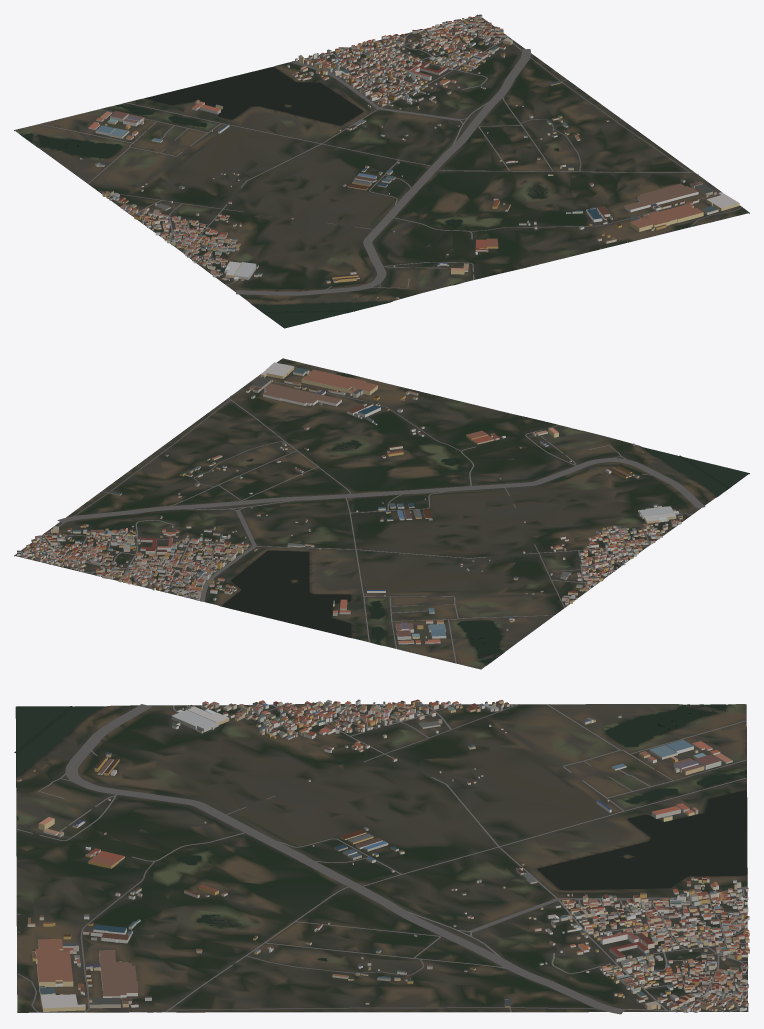
3 renders of one model, top to bottom at view 1: azimuth 30°, elevation 25°; view 2: azimuth 150°, elevation 25°; view 3: azimuth 270°, elevation 25°, orthographic. The views are drawn at different scales.
Parts seen in each view (by area): view 1: ground, buildings, water, roads; view 2: ground, buildings, water, roads; view 3: ground, buildings, water, roads.
Part boxes in pixels (x1=…): ground: x1=14, y1=17, x2=749, y2=328; buildings: x1=79, y1=14, x2=739, y2=298; water: x1=20, y1=67, x2=559, y2=327; roads: x1=39, y1=17, x2=741, y2=295; ground: x1=14, y1=358, x2=749, y2=669; buildings: x1=17, y1=362, x2=682, y2=644; water: x1=222, y1=429, x2=748, y2=665; roads: x1=20, y1=364, x2=705, y2=663; ground: x1=15, y1=704, x2=748, y2=1012; buildings: x1=17, y1=699, x2=749, y2=1012; water: x1=14, y1=704, x2=746, y2=961; roads: x1=16, y1=704, x2=748, y2=1014.
Bounding box in the file's own units: 1416 × 27.54 × 1412.
